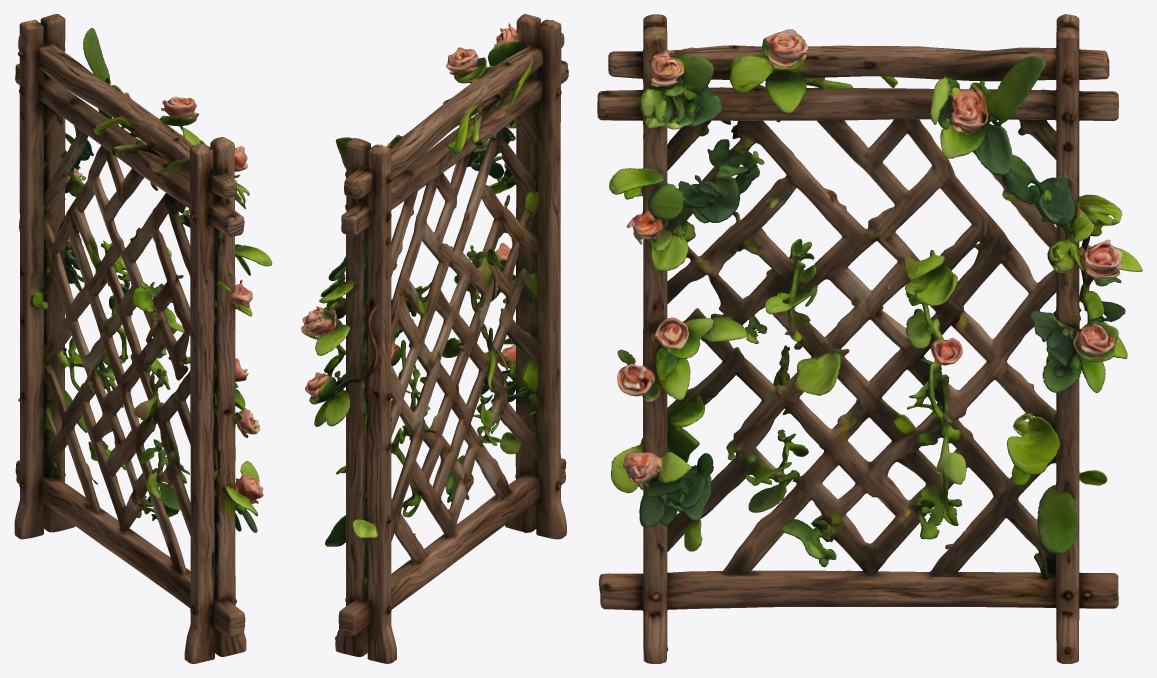
The model's file is prop-trellis.glb.
3 views of the same model, side by side, from view 1: azimuth 30°, elevation 25°; view 2: azimuth 150°, elevation 25°; view 3: azimuth 270°, elevation 25° (orthographic). The views are drawn at different scales.
Parts seen in each view (by area): view 1: tripo_node_fe7f6bff-1fe9-4944-b238-28486037ae7e; view 2: tripo_node_fe7f6bff-1fe9-4944-b238-28486037ae7e; view 3: tripo_node_fe7f6bff-1fe9-4944-b238-28486037ae7e.
Part boxes in pixels (x1,y1,x2,y2): tripo_node_fe7f6bff-1fe9-4944-b238-28486037ae7e: (14,14,272,663); tripo_node_fe7f6bff-1fe9-4944-b238-28486037ae7e: (301,14,568,663); tripo_node_fe7f6bff-1fe9-4944-b238-28486037ae7e: (597,14,1142,663).
Size of the model in its own units: 0.4062 by 2.5 by 1.98.
1 material, 1 textured.
